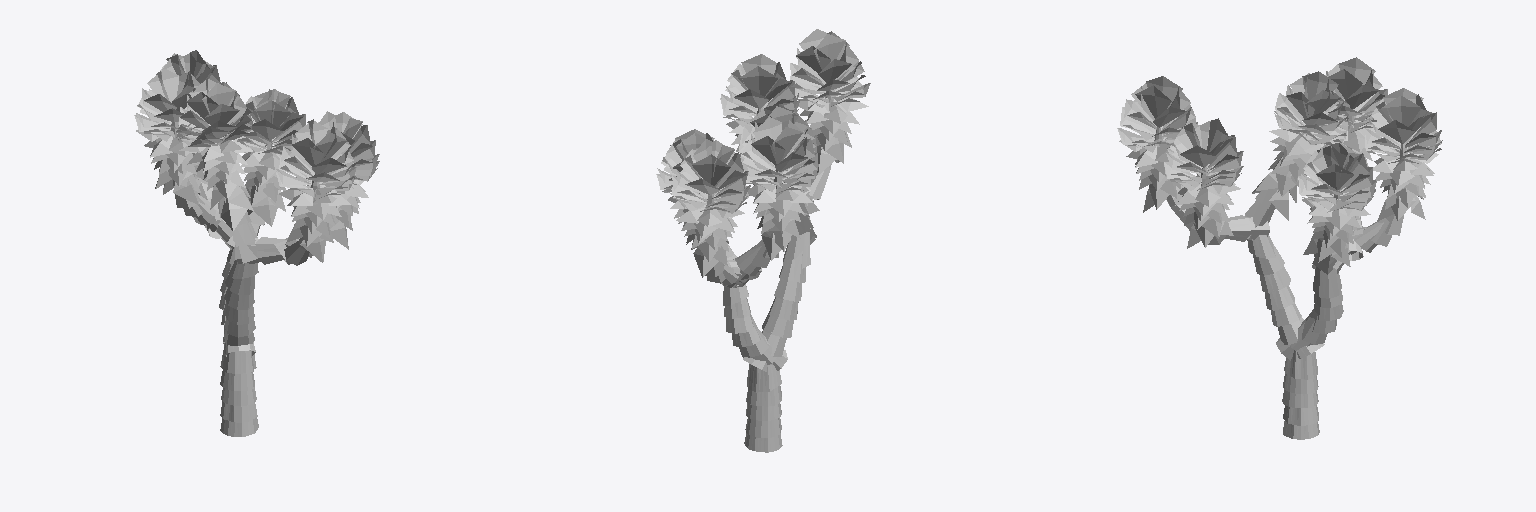
The picture shows the model from 3 angles: view 1: azimuth 30°, elevation 25°; view 2: azimuth 150°, elevation 25°; view 3: azimuth 270°, elevation 25°; orthographic projection.
Parts seen in each view (by area): view 1: jt3; view 2: jt3; view 3: jt3.
Boxes of the visible parts, <box> form: jt3: <box>134,50,379,436</box>; jt3: <box>656,29,870,452</box>; jt3: <box>1117,57,1442,439</box>.
Size of the model in its own units: 1.22 by 2.62 by 2.15.